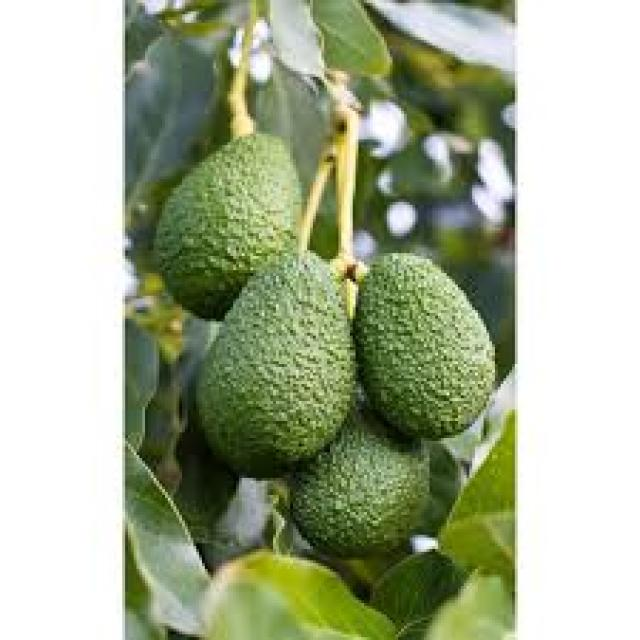Avocado: (191, 235, 355, 472), (354, 243, 502, 438), (289, 429, 443, 558), (153, 132, 304, 260)
